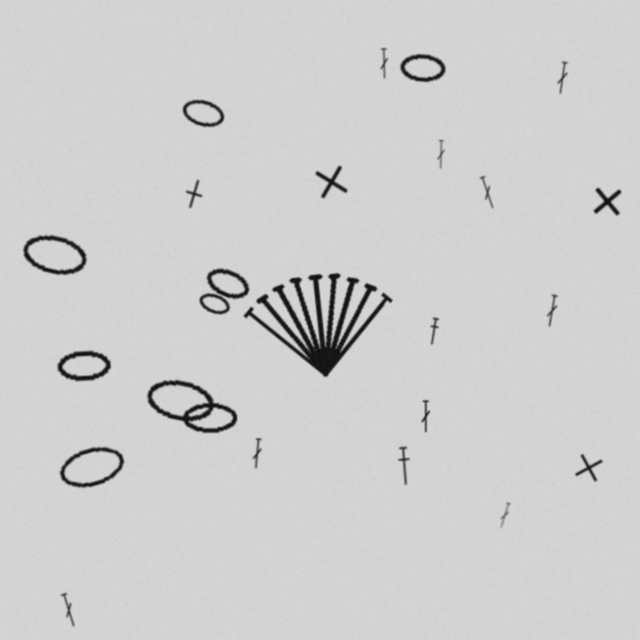chain: (55, 439, 129, 494), (143, 374, 217, 426), (19, 229, 91, 280), (202, 262, 253, 304), (56, 349, 111, 383), (179, 95, 228, 131), (182, 402, 237, 434), (399, 52, 447, 83), (196, 289, 233, 319)
double: (477, 175, 498, 210), (59, 592, 79, 628), (544, 294, 560, 328), (555, 61, 570, 95), (497, 502, 512, 529), (251, 438, 263, 469), (420, 400, 431, 433), (379, 48, 389, 79), (436, 140, 446, 169)
fan: (236, 254, 403, 386)
half_double: (396, 446, 413, 486), (426, 317, 441, 346)
single: (308, 158, 354, 205), (569, 448, 608, 487), (588, 182, 626, 220), (175, 175, 213, 213)
